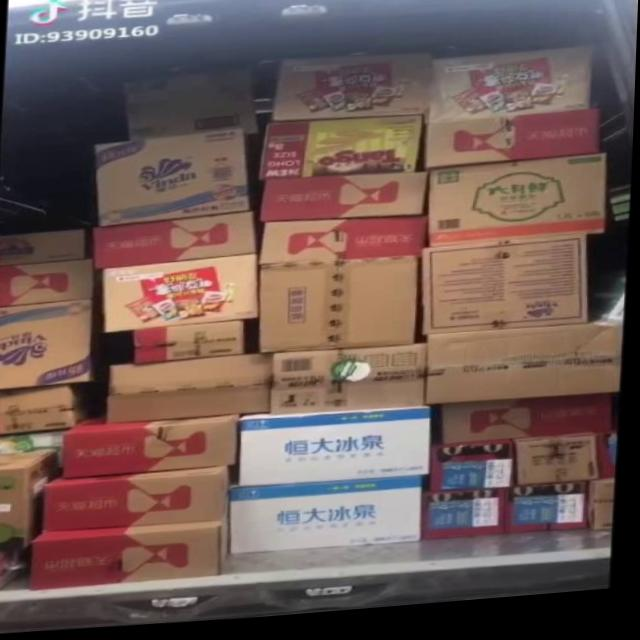box: (423, 245, 592, 341), (430, 164, 607, 254), (426, 331, 624, 411), (242, 411, 434, 491), (97, 132, 252, 227), (233, 484, 431, 558), (262, 263, 417, 357), (33, 520, 234, 591), (426, 56, 593, 130), (100, 258, 260, 335), (0, 300, 138, 389), (46, 469, 233, 533), (108, 358, 277, 427), (276, 350, 432, 419), (66, 419, 241, 479), (271, 60, 434, 124), (425, 120, 604, 178), (262, 122, 427, 184), (124, 70, 264, 142), (96, 215, 258, 270), (441, 403, 620, 452), (262, 177, 432, 225), (260, 222, 430, 268), (0, 450, 67, 547), (0, 261, 105, 307), (135, 324, 247, 367), (513, 443, 602, 496), (0, 386, 96, 435), (433, 447, 519, 499), (427, 497, 510, 548), (510, 492, 595, 540), (0, 230, 87, 266), (0, 432, 71, 468), (592, 489, 618, 539), (597, 439, 621, 489)
